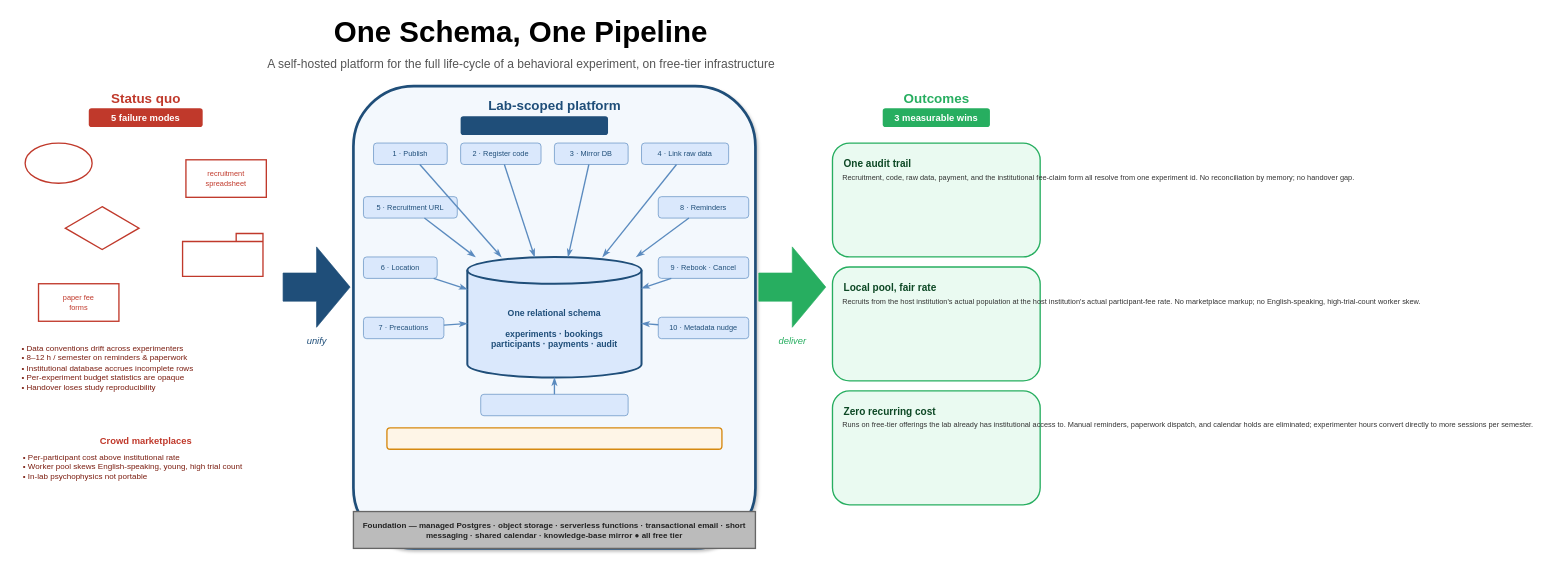
Image size: 1544x565. Some labels were removed from this diagram. Here are the shapes that lost their labels. From the top down, the centre of each, then its label:
point 534,125: 11 sequenced operations
point 58,163: email thread
point 101,228: shared calendar
point 222,254: lab-server data folder
point 554,405: 11 · Participant-fee claim
point 554,438: ✓ confirmation gate · every external action requires explicit approval
